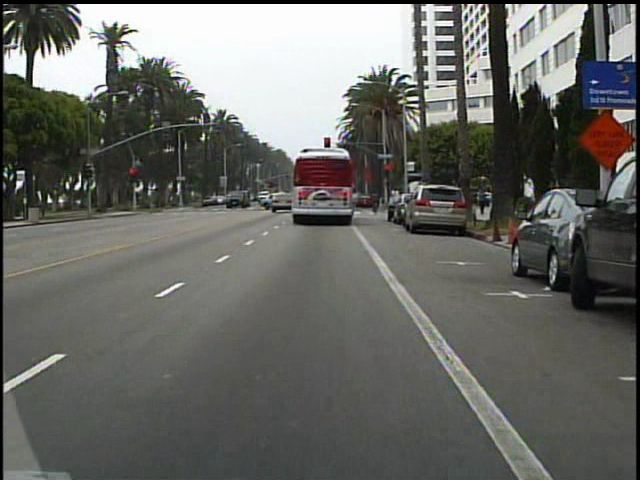person: (475, 184, 488, 216)
